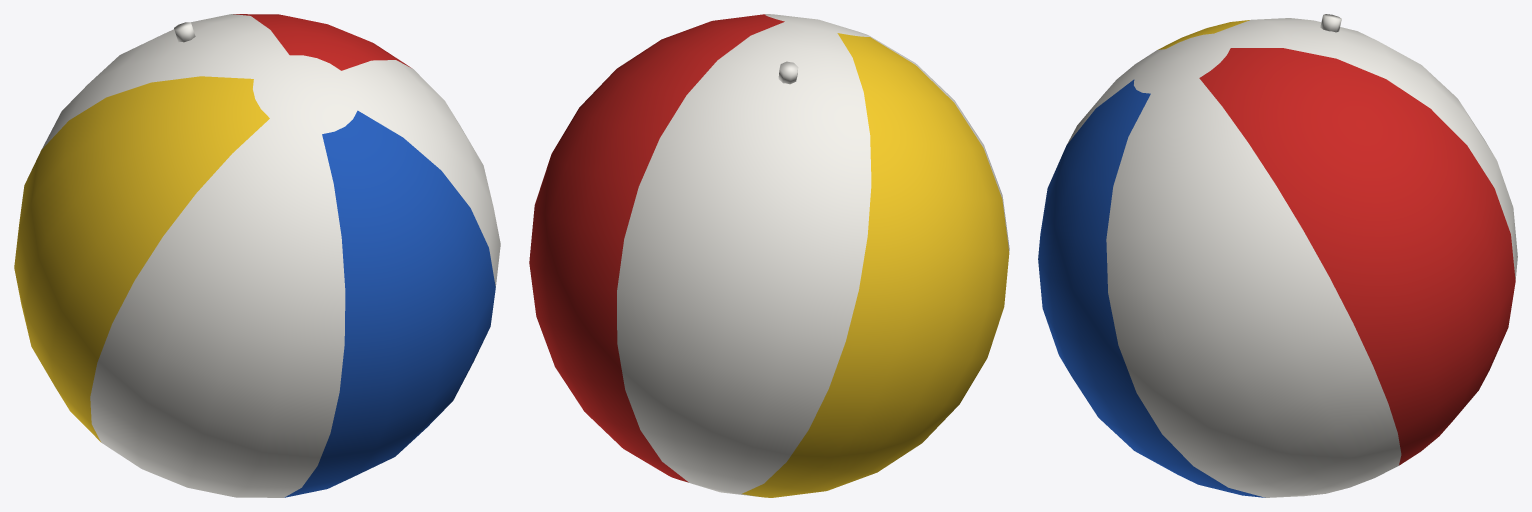
Rendered from BolaDePraia.fbx.
3 views of the same model, side by side, from view 1: azimuth 30°, elevation 25°; view 2: azimuth 150°, elevation 25°; view 3: azimuth 270°, elevation 25° (orthographic).
Visible parts, largest first — view 1: BolaDePraia; view 2: BolaDePraia; view 3: BolaDePraia.
Boxes of the visible parts, x1,y1,x2,y2 form: BolaDePraia: [14, 14, 500, 497]; BolaDePraia: [529, 14, 1009, 497]; BolaDePraia: [1038, 14, 1517, 497].
Bounding box in the file's own units: 0.3985 × 0.4023 × 0.3986.
